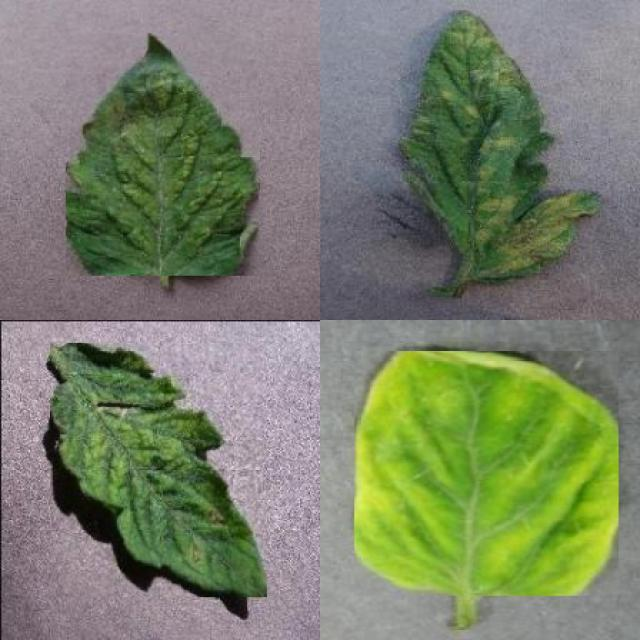Leaf Mold: (402, 8, 602, 283)
Mosaic Virus: (50, 342, 267, 598)
Spider Mites: (65, 34, 258, 276)
Yellow Leaf Curl Virus: (354, 350, 619, 596)
